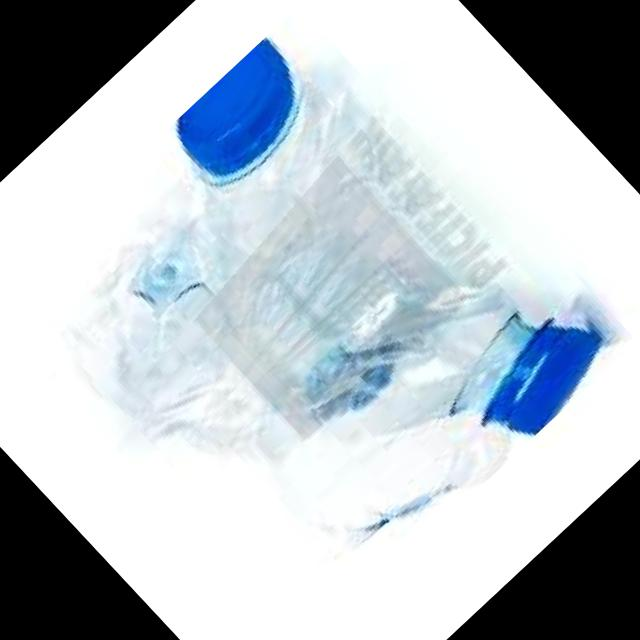plastic bottle: (146, 171, 636, 640), (0, 6, 469, 493)
